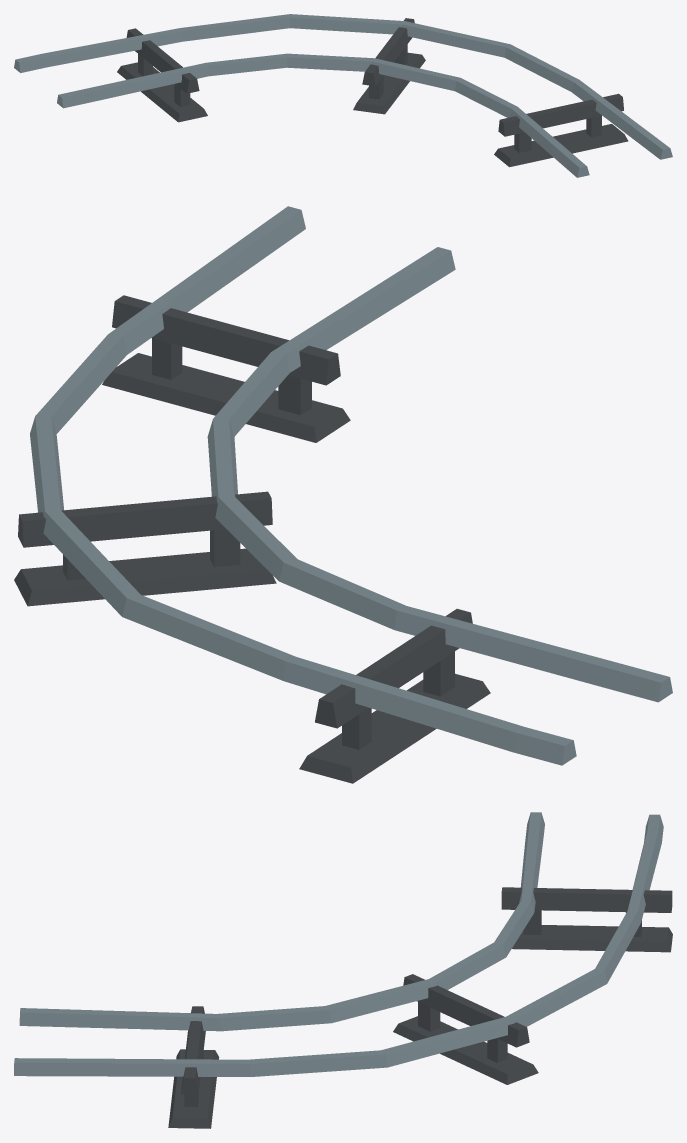
File: Track_Corner.glb
3 renders of one model, top to bottom at view 1: azimuth 30°, elevation 25°; view 2: azimuth 150°, elevation 25°; view 3: azimuth 270°, elevation 25°, orthographic. The views are drawn at different scales.
Visible parts, largest first — view 1: SM_Bld_Track_Corner_01; view 2: SM_Bld_Track_Corner_01; view 3: SM_Bld_Track_Corner_01.
Boxes of the visible parts, x1,y1,x2,y2 form: SM_Bld_Track_Corner_01: (14, 14, 672, 177); SM_Bld_Track_Corner_01: (14, 206, 672, 783); SM_Bld_Track_Corner_01: (14, 812, 672, 1128).
Bounding box in the file's own units: 1.41 × 0.1338 × 1.49.
Materials: 1 (1 with a texture image).
